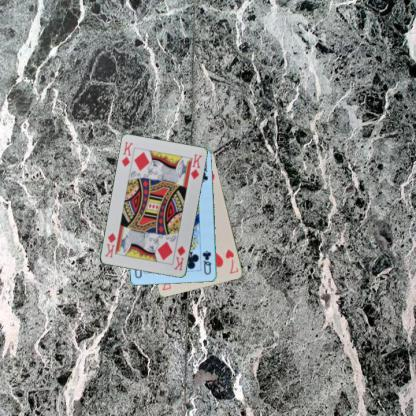7h: (223, 247, 240, 275)
Kd: (119, 139, 134, 168), (172, 243, 186, 272)
Qc: (200, 249, 213, 276)
